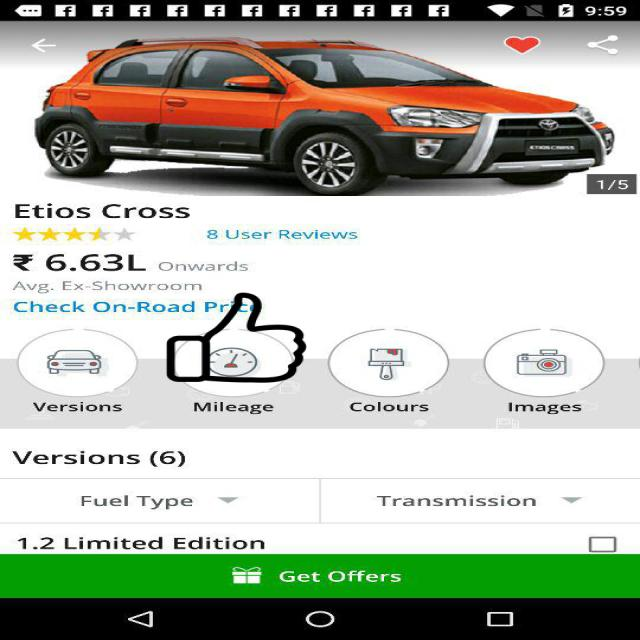privacy zuckering: (165, 292, 308, 382)
